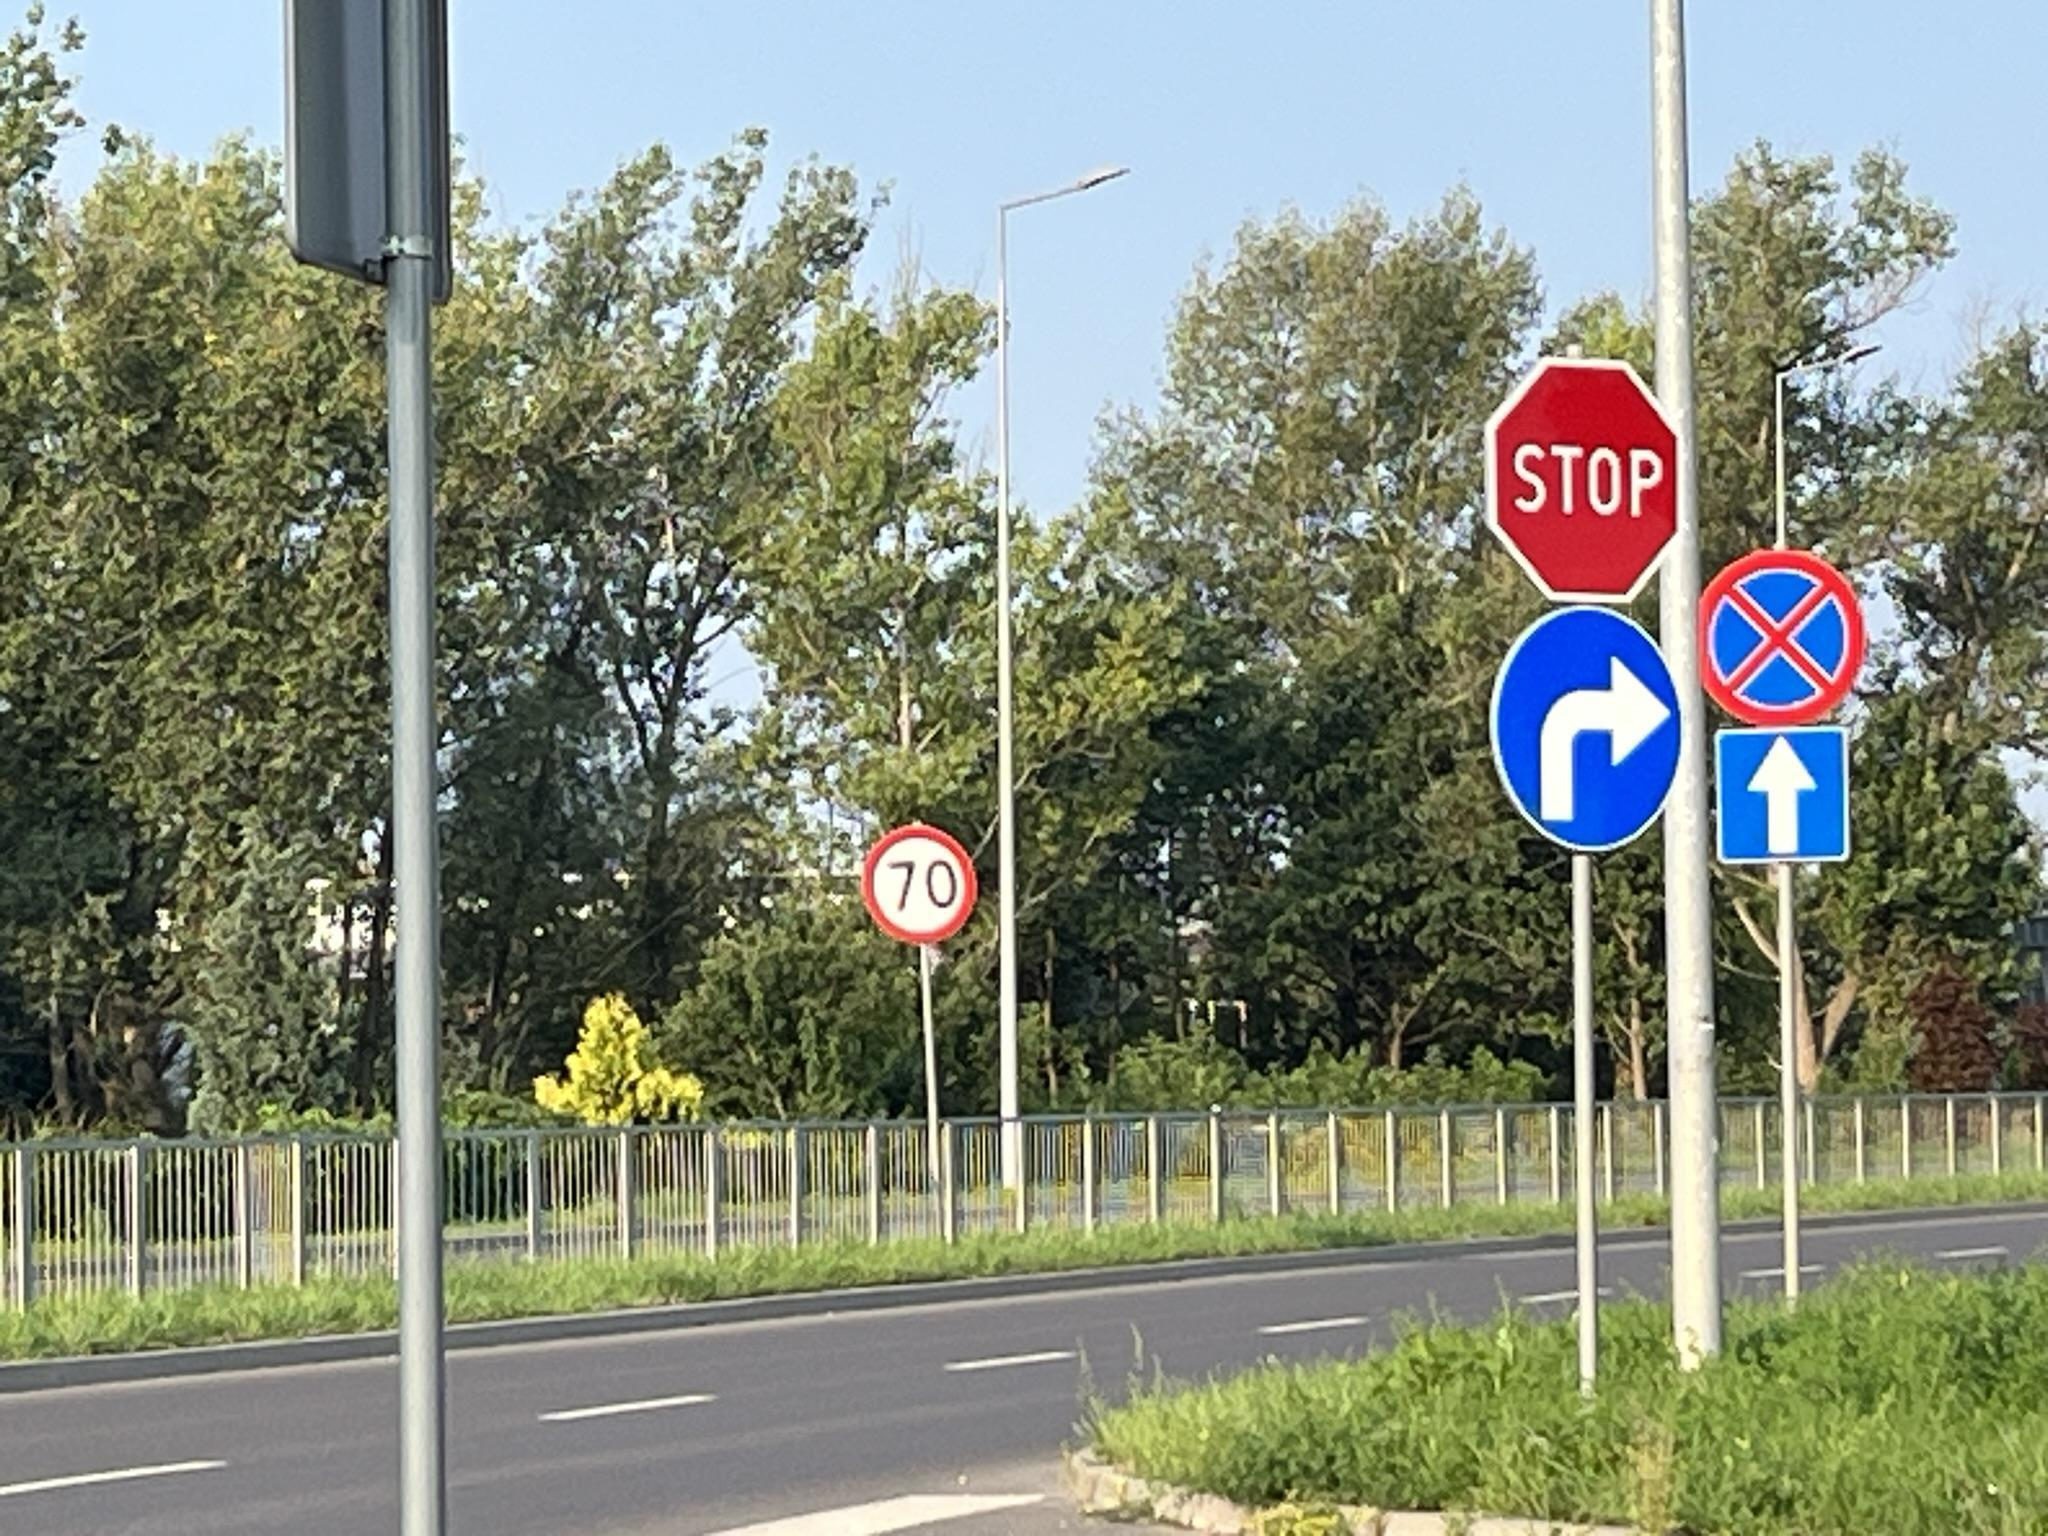information: (1716, 731, 1848, 858)
mandatory: (1487, 605, 1687, 857)
prohibitory: (1485, 353, 1679, 602), (1698, 547, 1869, 728), (860, 823, 977, 945)
